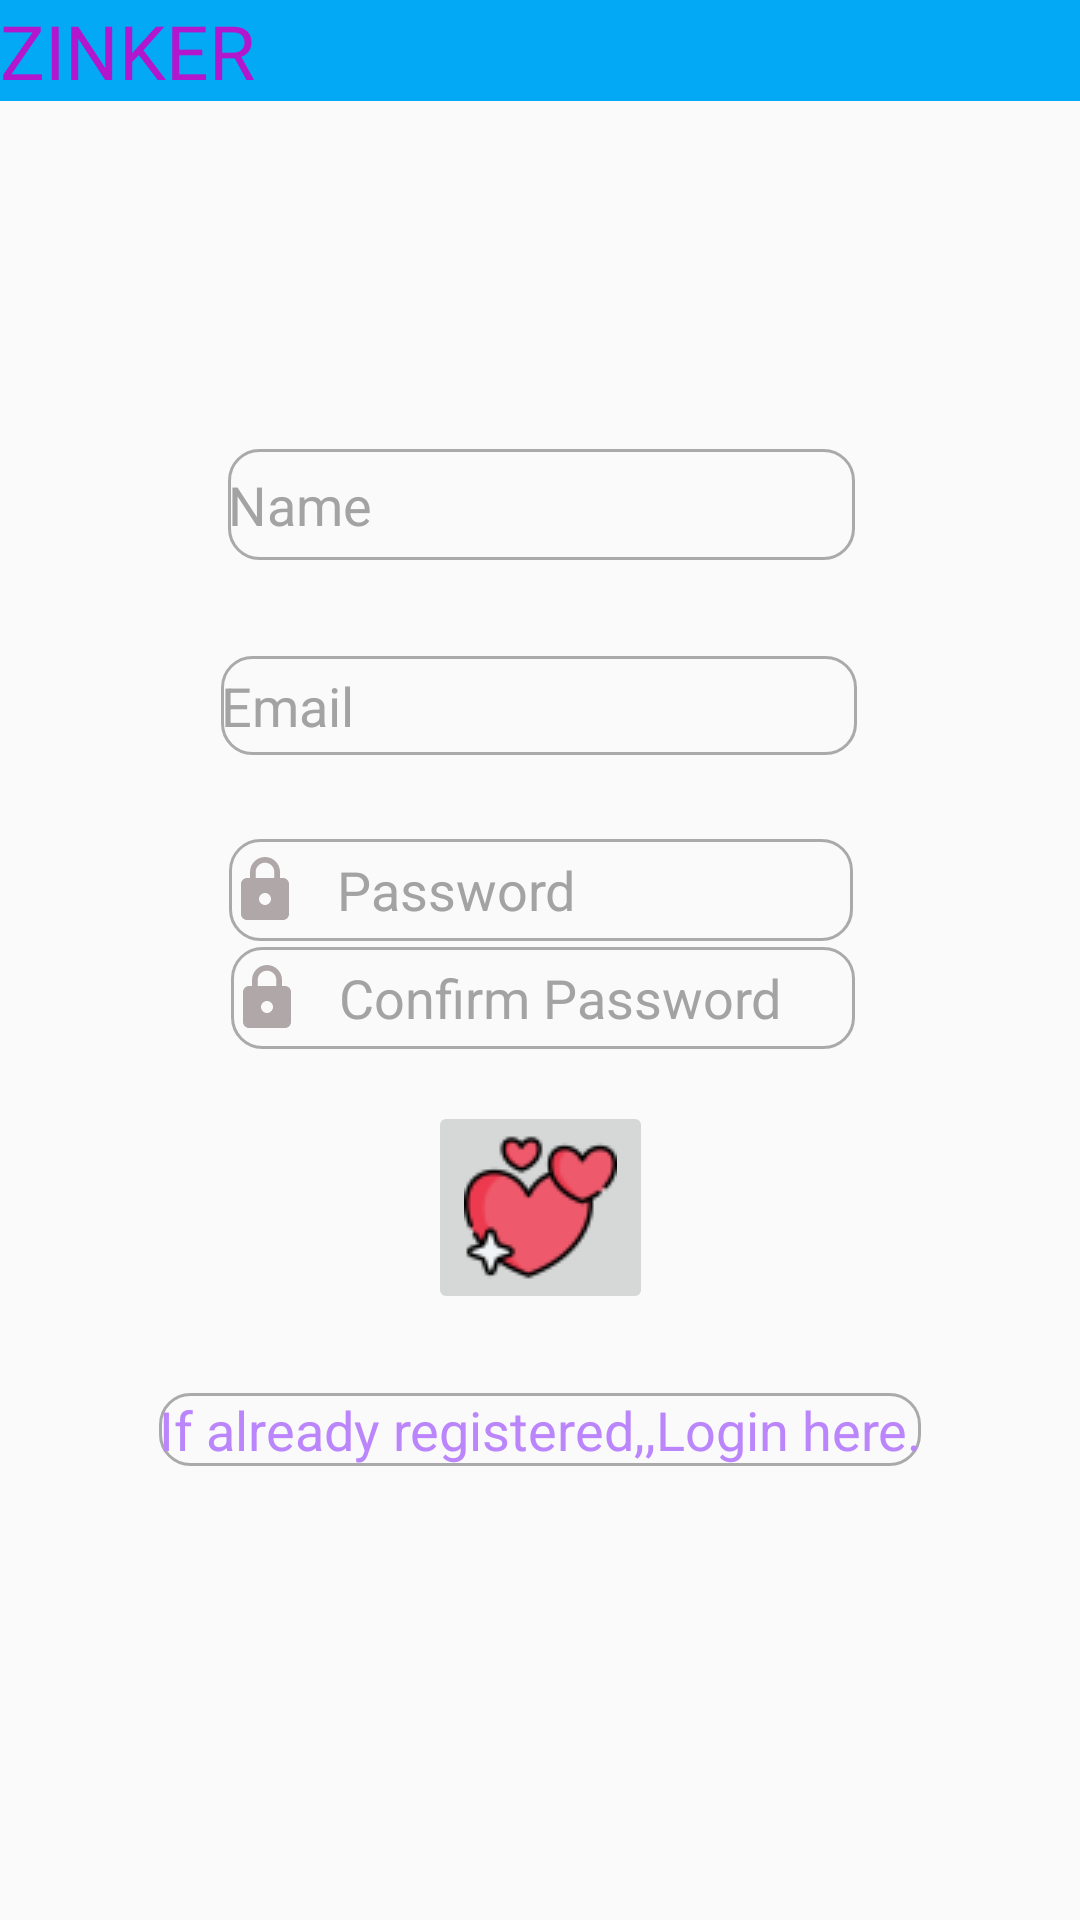

Where icons sit on this 1080px x 1920px app screen, as (x1, y1, x2, y2):
love: (440, 1119, 641, 1296)
